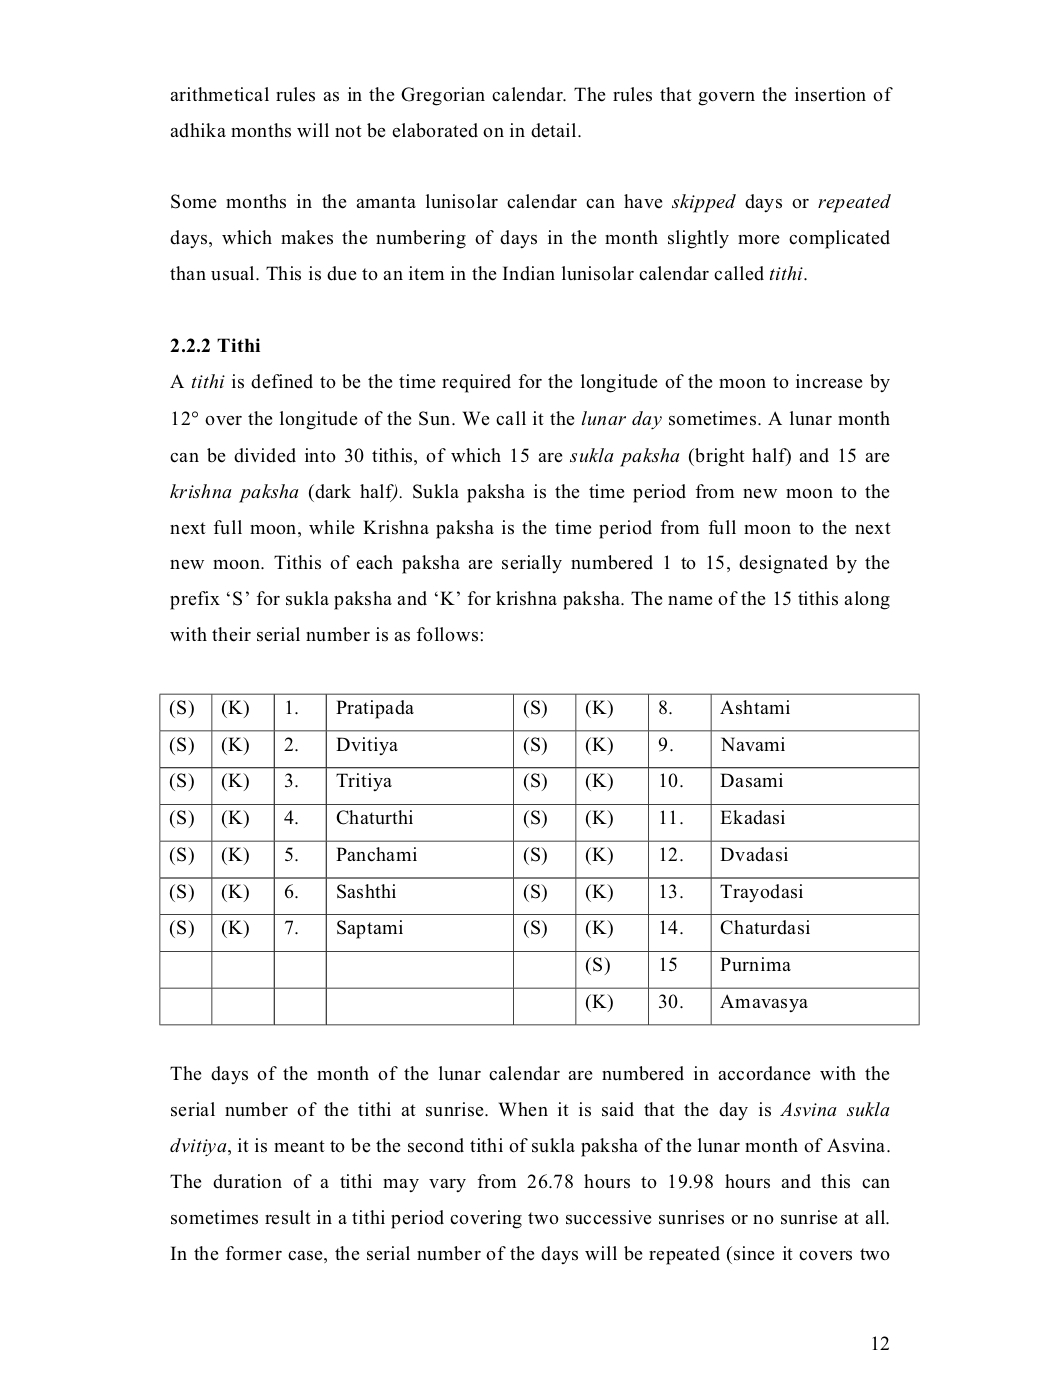Table: (159, 692, 919, 1026)
